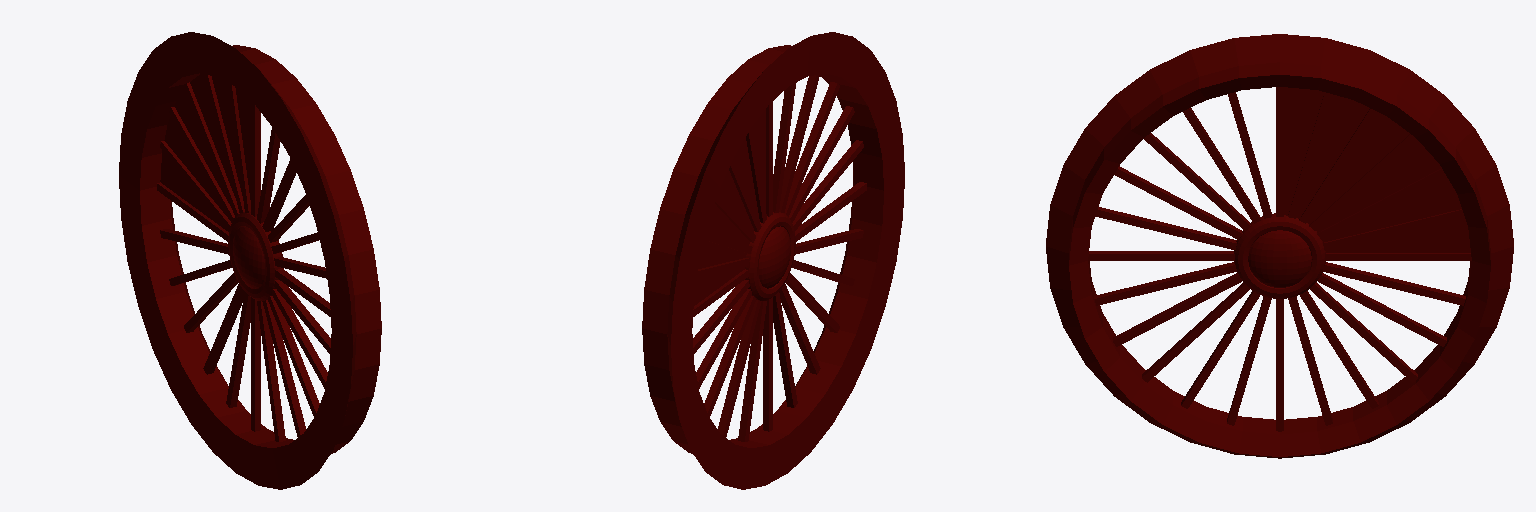
Rendered from kolo1.obj.
3 views of the same model, side by side, from view 1: azimuth 30°, elevation 25°; view 2: azimuth 150°, elevation 25°; view 3: azimuth 270°, elevation 25° (orthographic).
Visible parts, largest first — view 1: Wheel_7_Circle.004; view 2: Wheel_7_Circle.004; view 3: Wheel_7_Circle.004.
Boxes of the visible parts, x1,y1,x2,y2 form: Wheel_7_Circle.004: [119, 32, 381, 489]; Wheel_7_Circle.004: [642, 32, 904, 489]; Wheel_7_Circle.004: [1046, 34, 1513, 458].
Bounding box in the file's own units: 0.2386 × 2.39 × 2.39.